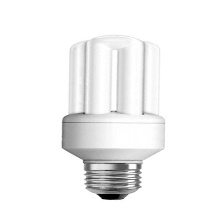light_bulb: (55, 30, 171, 206)
